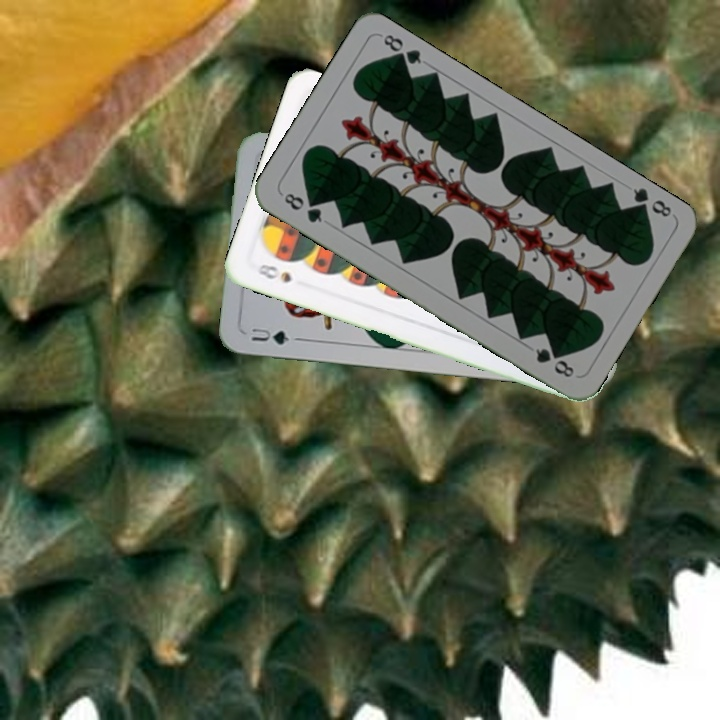G8: (280, 189, 325, 226), (628, 184, 674, 220)
GU: (247, 324, 302, 347)
S8: (253, 260, 294, 286)
